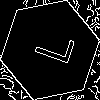L: (25, 25, 75, 67)
